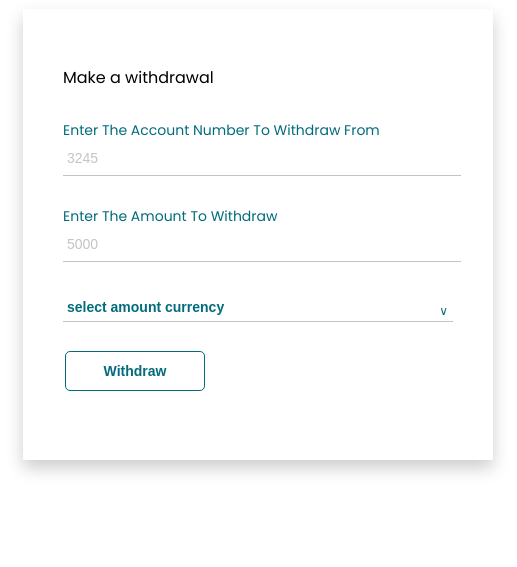
Test: CreateWithdrawal Test › should validate the input
Click the button with test id "createwithdrawal-withdraw". click: (135, 371)
box: top-left (65, 351), bottom-right (205, 391)
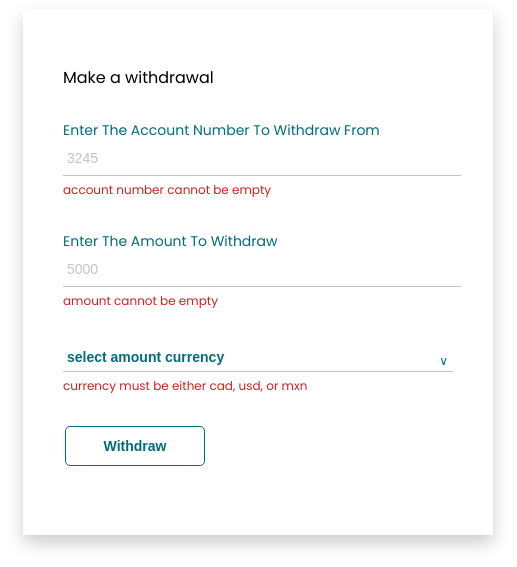
Check: the text "account number cannot be empty" is shown, box top-left (63, 181), bottom-right (271, 198)
Check: the text "amount cannot be empty" is shown, box top-left (63, 292), bottom-right (218, 309)
Check: the text "currency must be either cad, usd, or mxn" is shown, box top-left (63, 377), bottom-right (307, 394)
